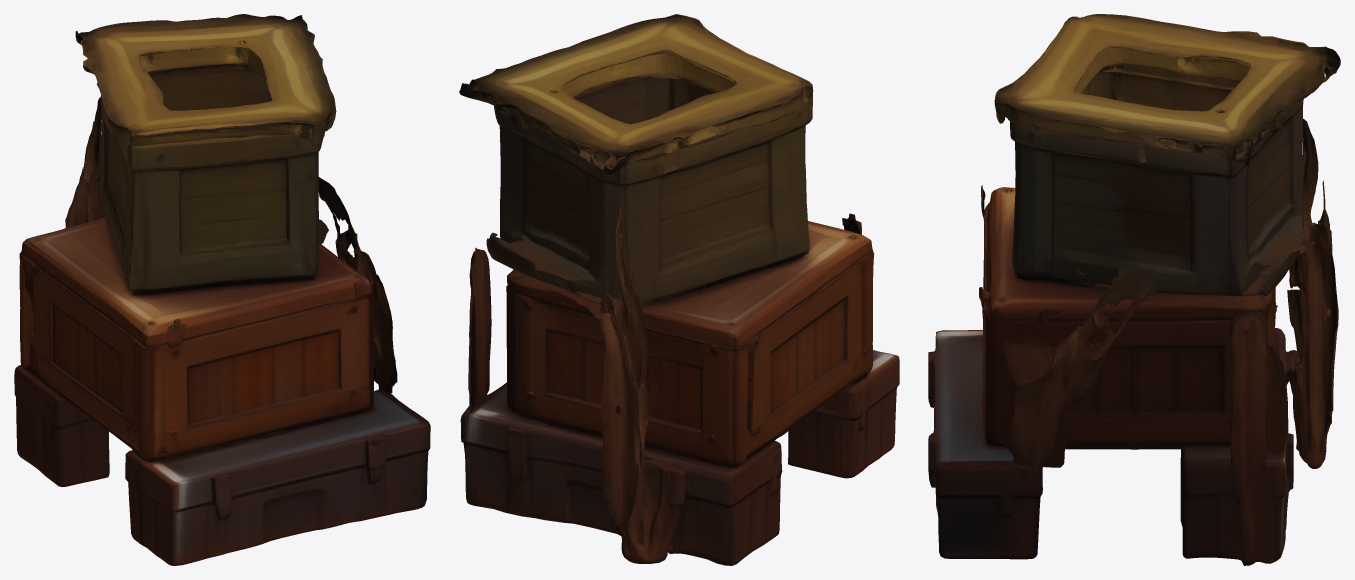
3 renders of one model, left to right at view 1: azimuth 30°, elevation 25°; view 2: azimuth 150°, elevation 25°; view 3: azimuth 270°, elevation 25°, orthographic. The views are drawn at different scales.
Parts seen in each view (by area): view 1: geometry_0; view 2: geometry_0; view 3: geometry_0.
Boxes of the visible parts, <box> form: geometry_0: <box>14,14,430,565</box>; geometry_0: <box>459,14,899,565</box>; geometry_0: <box>928,14,1340,565</box>.
Size of the model in its own units: 0.7238 by 0.9689 by 0.8518.
1 material, 1 textured.
